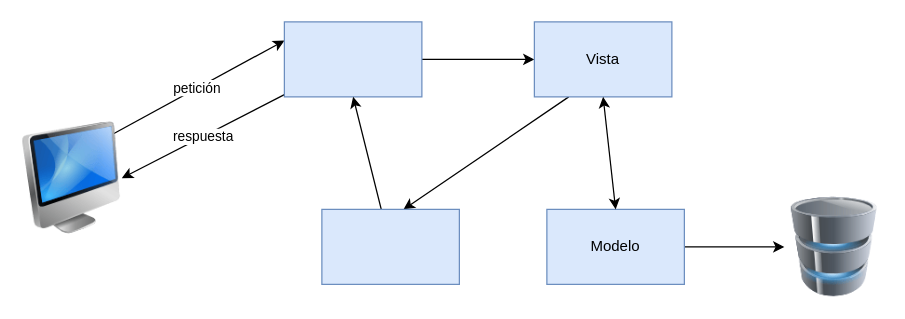
The diagram is 905 pixels wide and 319 high, and some of its shapes have lost their labels. The centre of each missing label's shape, as x and y in pixels:
Plantilla: the point at 390,246
url: the point at 352,59
